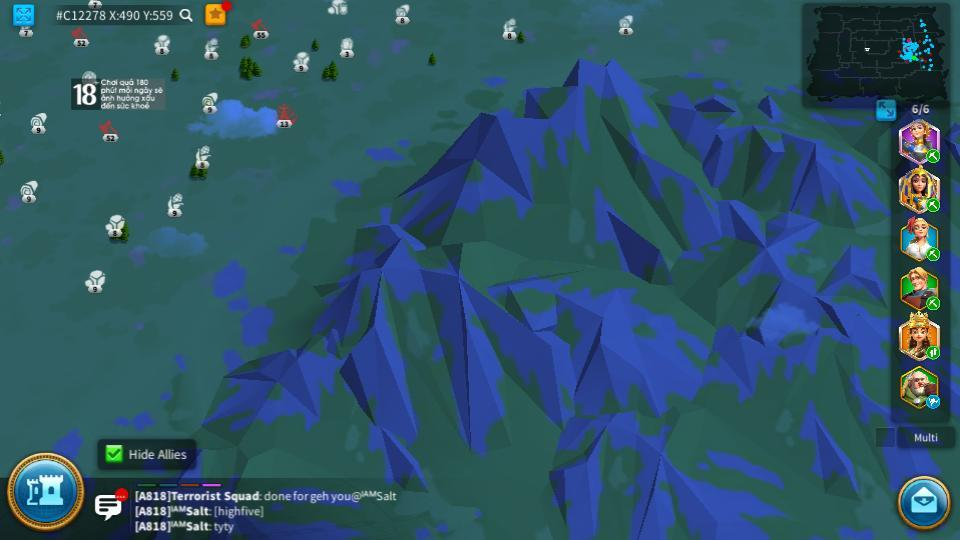gem-z-out: (339, 38, 355, 56)
march_idle: (925, 396, 942, 408)
march_marching: (925, 196, 941, 211), (925, 345, 941, 359), (924, 150, 942, 162), (924, 248, 942, 260), (925, 297, 942, 308)
